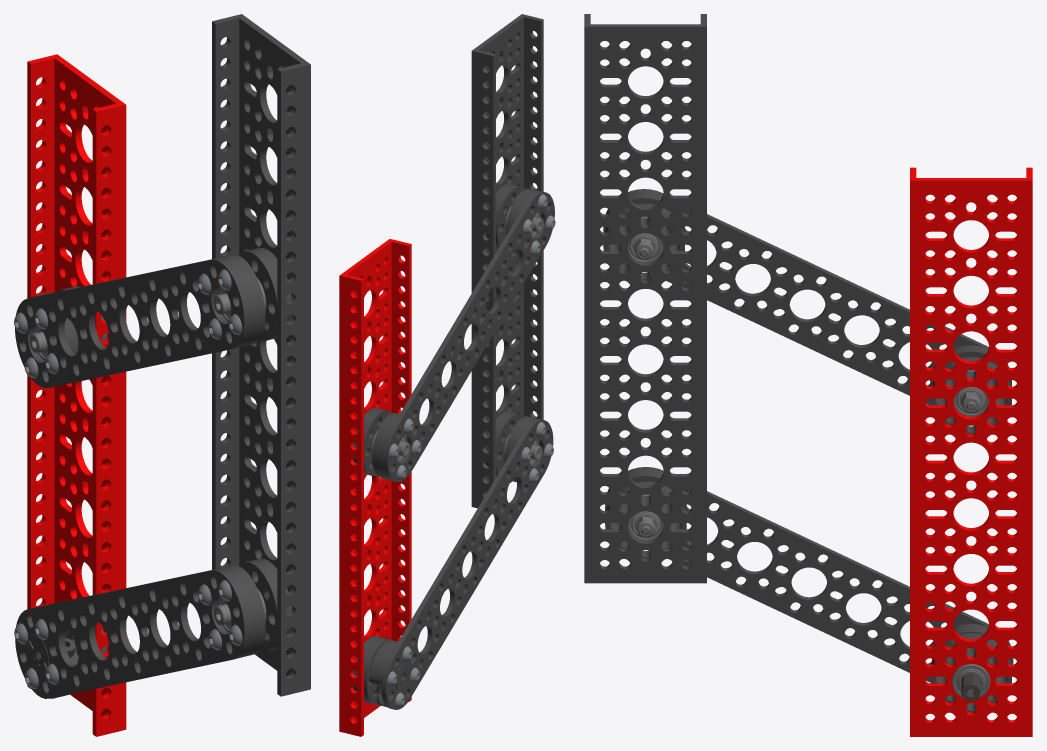
Rendered from FourBar.glb.
The picture shows the model from 3 angles, left to right: view 1: azimuth 30°, elevation 25°; view 2: azimuth 150°, elevation 25°; view 3: azimuth 270°, elevation 25°; orthographic projection. The views are drawn at different scales.
Visible parts, largest first — view 1: goBILDA Four Bar; view 2: goBILDA Four Bar, Pillow Block Plate.007, Pillow Block Plate.008; view 3: goBILDA Four Bar, Pillow Block Plate.007, Bearing.004.
Part boxes in pixels (x1,y1,x2,y2): goBILDA Four Bar: (14, 14, 310, 736); goBILDA Four Bar: (339, 14, 555, 736); Pillow Block Plate.007: (353, 408, 391, 475); Pillow Block Plate.008: (372, 413, 399, 479); goBILDA Four Bar: (584, 14, 1032, 736); Pillow Block Plate.007: (930, 357, 1011, 434); Bearing.004: (953, 387, 988, 416).
Size of the model in its own units: 0.0345 by 0.3067 by 0.1753.
